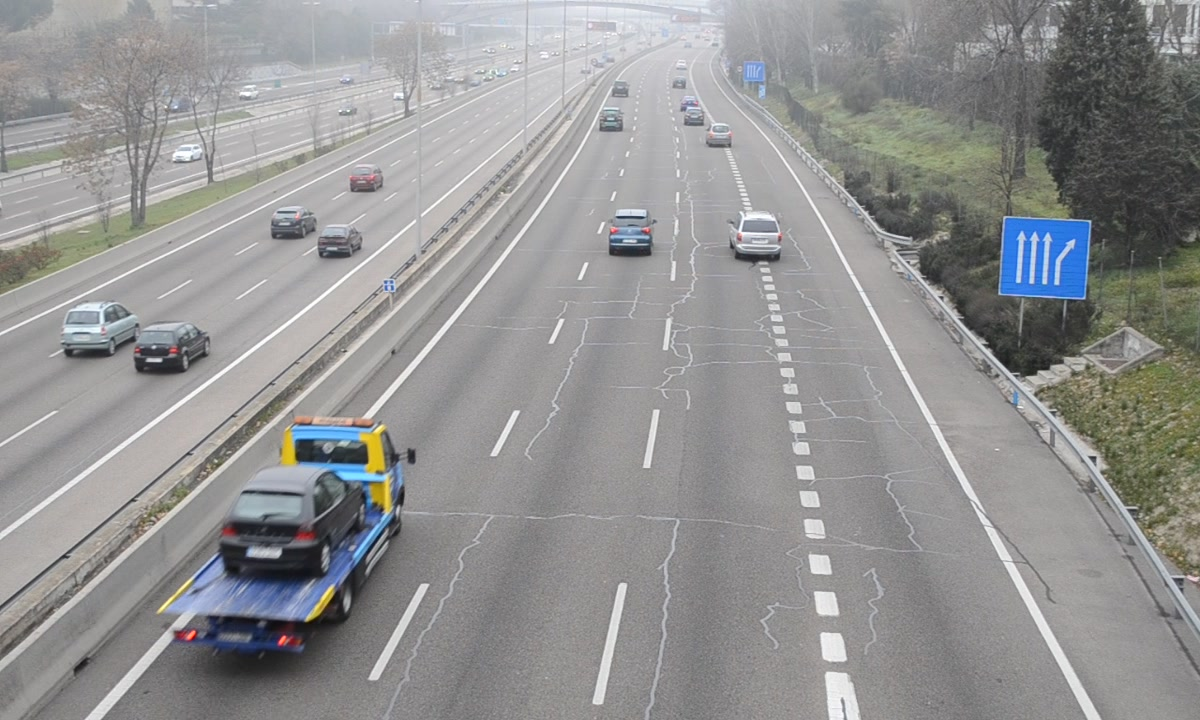car: (730, 210, 782, 259), (607, 209, 653, 254), (705, 122, 733, 148), (598, 108, 625, 133)
small-truck: (156, 413, 406, 649)
